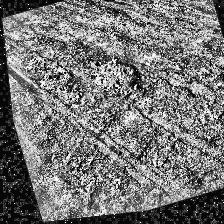pothole: (84, 50, 144, 108)
